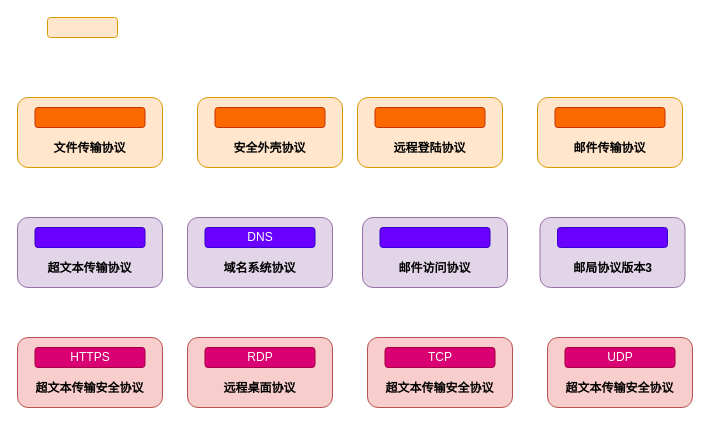
Image size: 710x425. Some labels were removed from this diagram. The shapes that lost their labels are listed below. From the top down, each one's centre as x and y in pixels, then its label:
the point at 82,27: 文件
the point at 89,117: FTP
the point at 269,117: SSH
the point at 429,117: Telnet
the point at 609,117: SMTP
the point at 89,237: HTTP
the point at 434,237: IMAP
the point at 612,237: POP3
